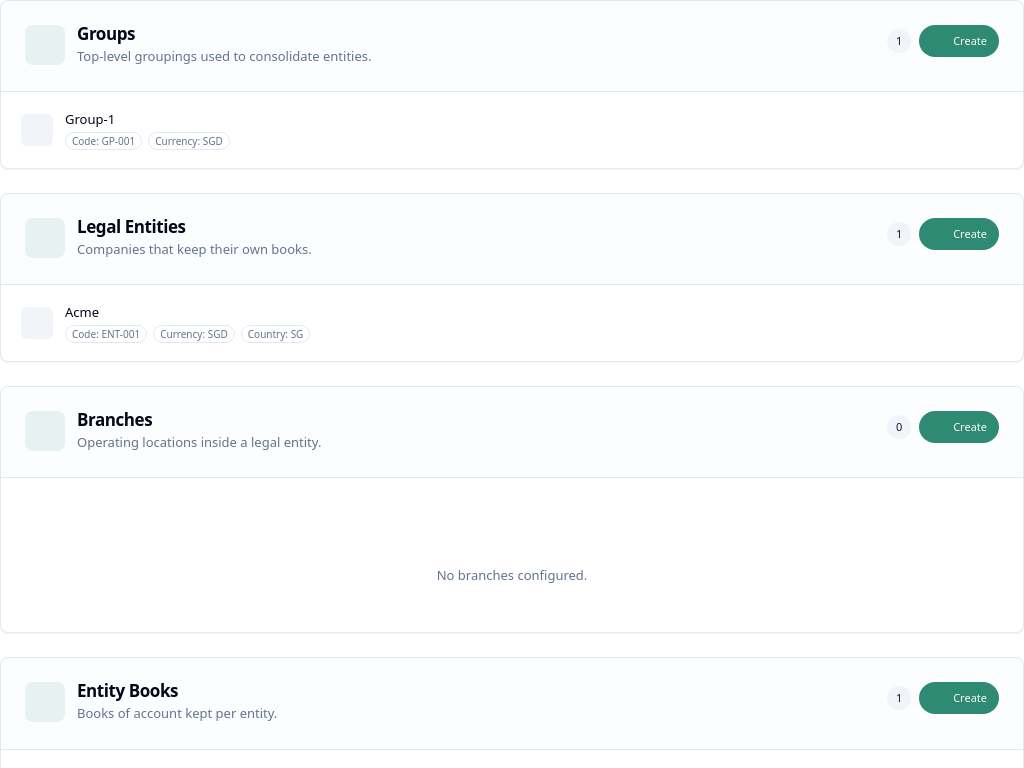
Test case: AccountingEntityManagementPage (redesigned entity cards) › opens the matching create dialog from a section
Check: the text "Group-1" is shown, box left=65, top=110, right=115, bottom=128
Click the button "Create" in the row of "Groups" at [959, 41], box left=919, top=25, right=999, bottom=57
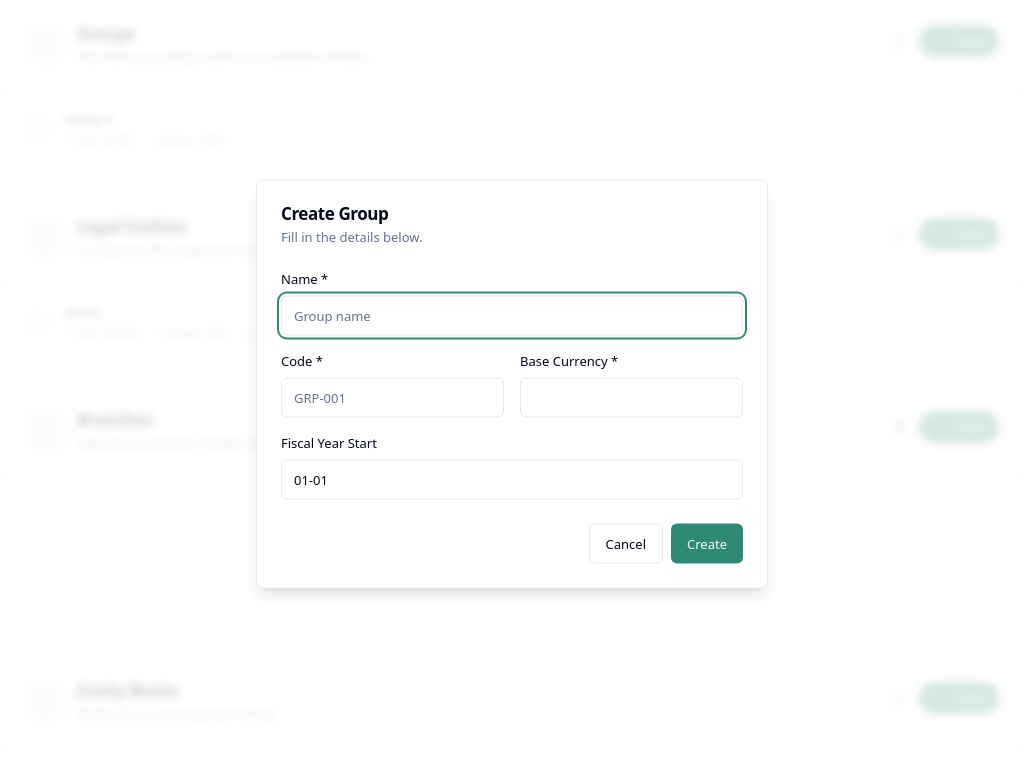
Check: the heading "Create Group" is shown, box left=281, top=202, right=388, bottom=224
